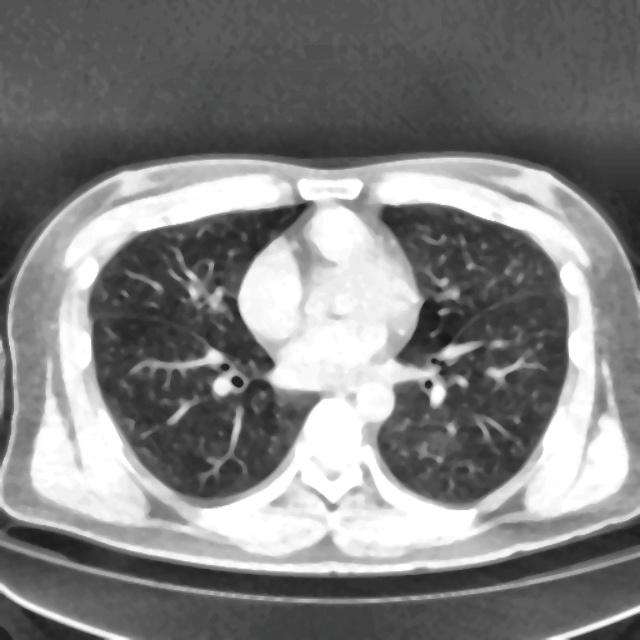covid: (1, 150, 638, 575)
